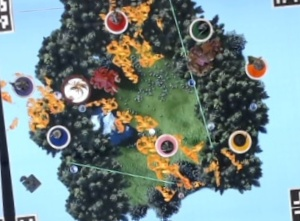blue: (44, 120, 72, 151)
green: (185, 14, 214, 43)
orange: (241, 52, 270, 79)
pink: (152, 130, 179, 157)
red: (101, 6, 130, 34)
violet: (9, 72, 35, 99)
yellow: (225, 126, 253, 154)
